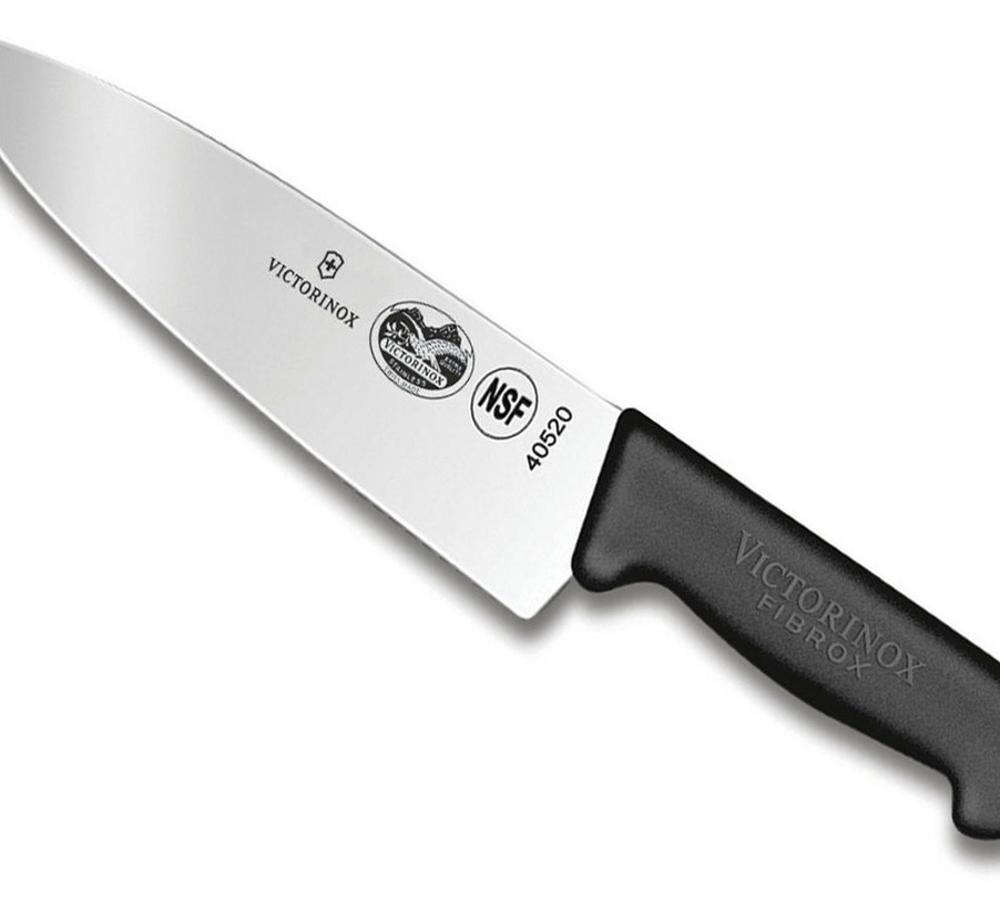knife: (1, 32, 1000, 836)
